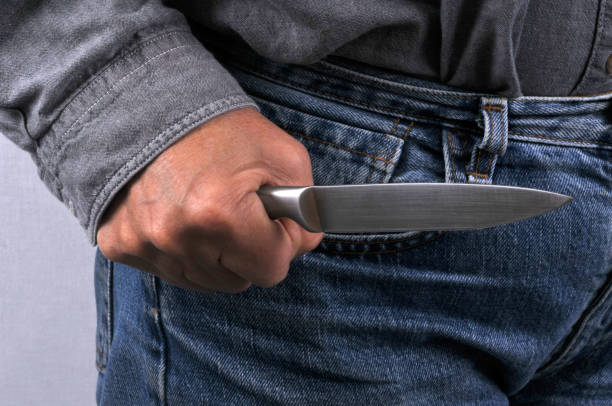knife: (259, 182, 574, 235)
